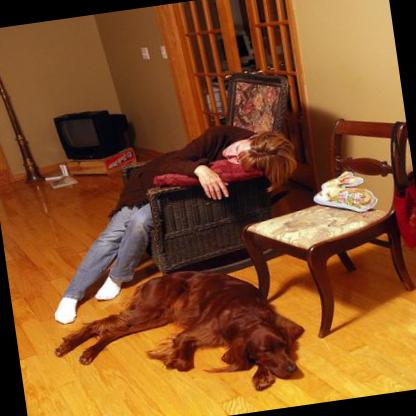Irish_setter: (42, 252, 314, 416)
